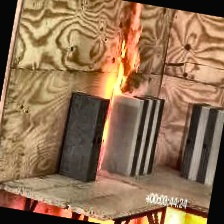fire: (107, 18, 146, 116)
